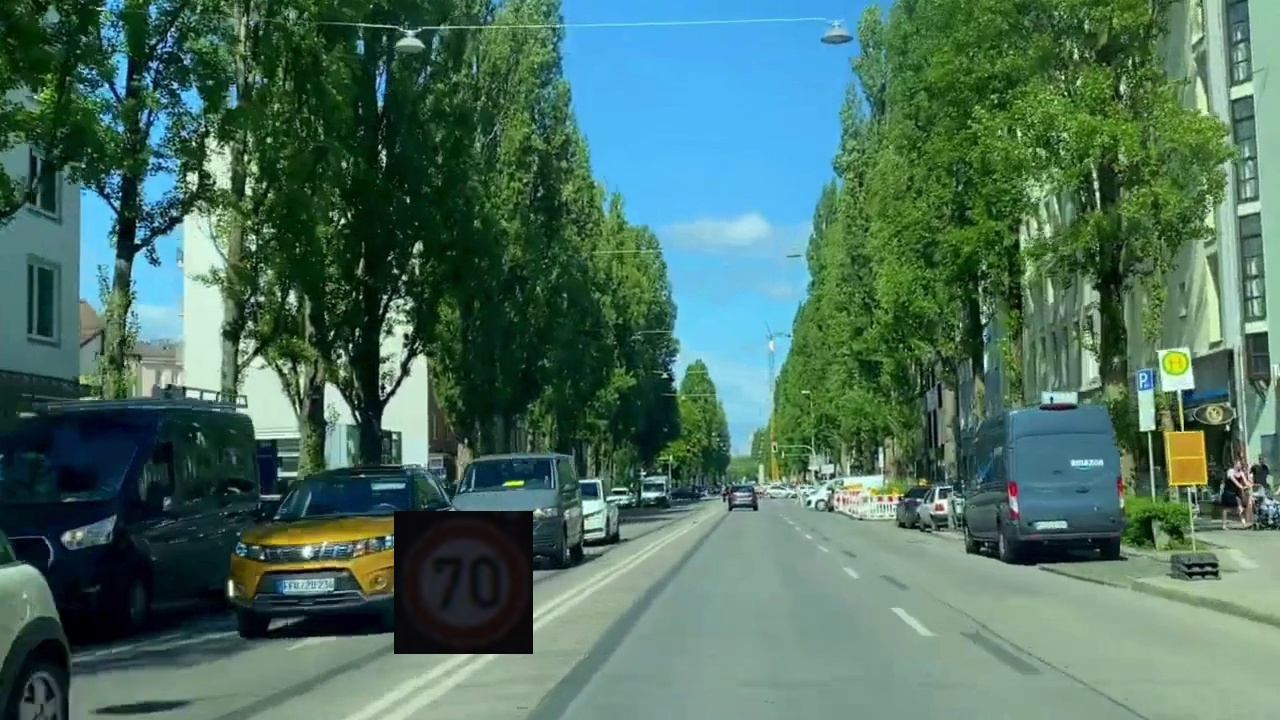Speed 70: (394, 511, 533, 654)
